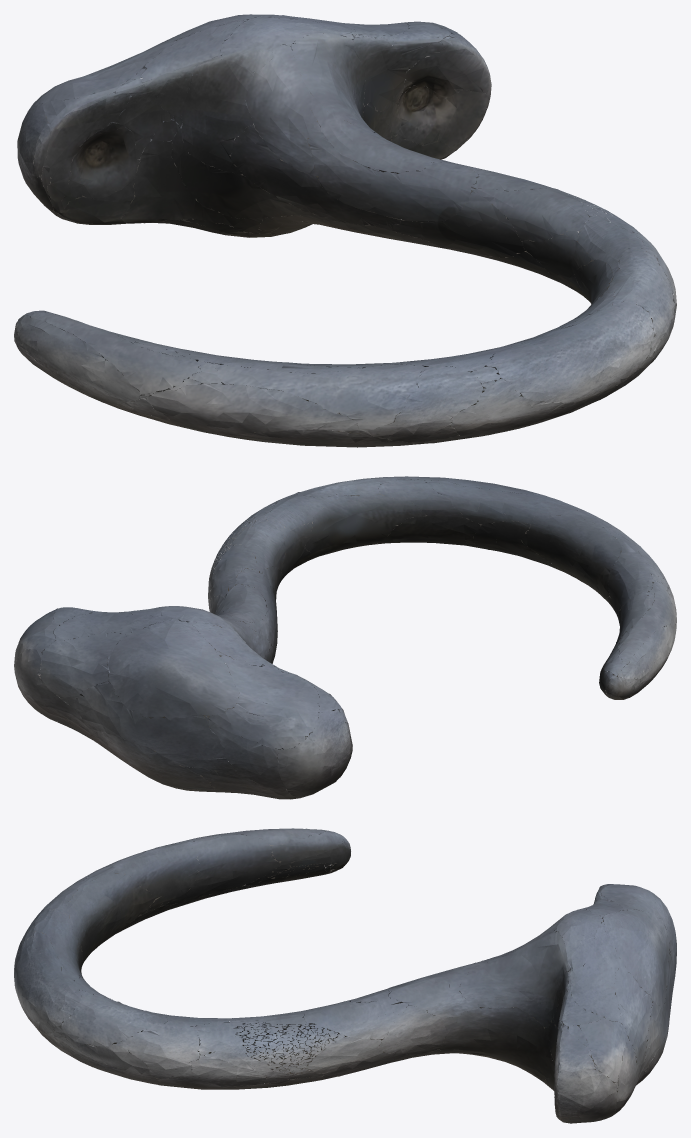
File: star-hanger-slim.glb
3 renders of one model, top to bottom at view 1: azimuth 30°, elevation 25°; view 2: azimuth 150°, elevation 25°; view 3: azimuth 270°, elevation 25°, orthographic. The views are drawn at different scales.
Visible parts, largest first — view 1: node_0; view 2: node_0; view 3: node_0.
Boxes of the visible parts, x1=… form: node_0: x1=14, y1=14, x2=676, y2=447; node_0: x1=14, y1=476, x2=676, y2=799; node_0: x1=14, y1=828, x2=676, y2=1123.
Size of the model in its own units: 0.8999 by 0.2891 by 1.02.
1 material, 1 textured.
